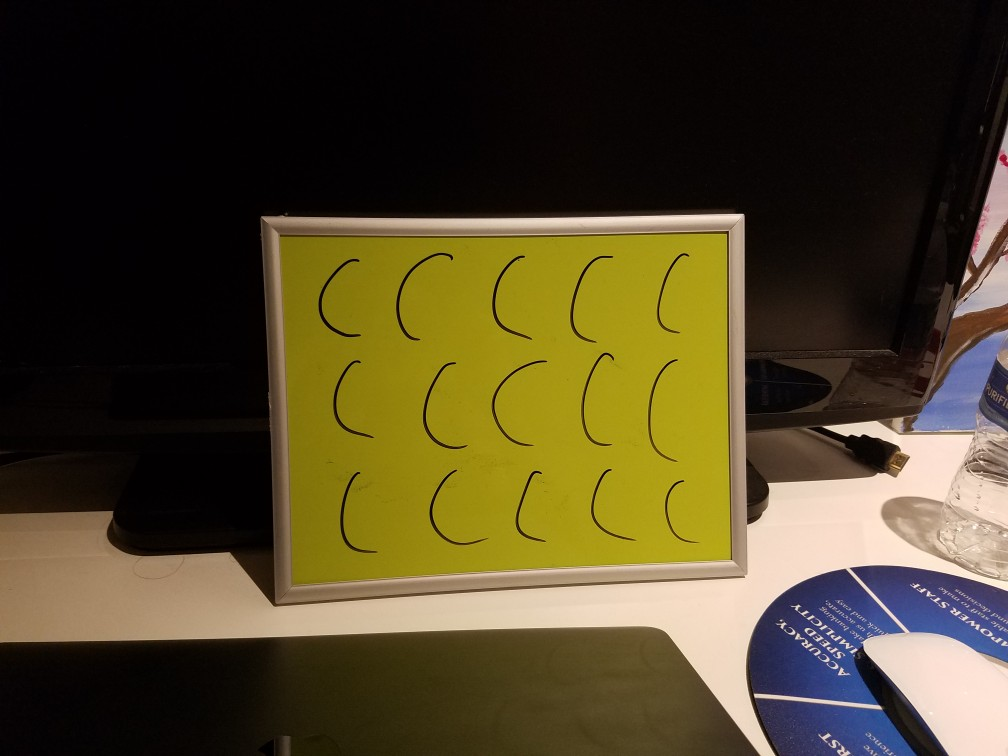(: (388, 247, 456, 350), (306, 246, 371, 352), (415, 357, 475, 458), (487, 357, 552, 450), (644, 346, 692, 468), (420, 462, 488, 548), (562, 244, 620, 344), (483, 246, 539, 346), (648, 245, 709, 336), (573, 346, 624, 454), (579, 462, 636, 550), (333, 465, 385, 560), (320, 358, 375, 444), (658, 473, 712, 553), (509, 462, 550, 552)
